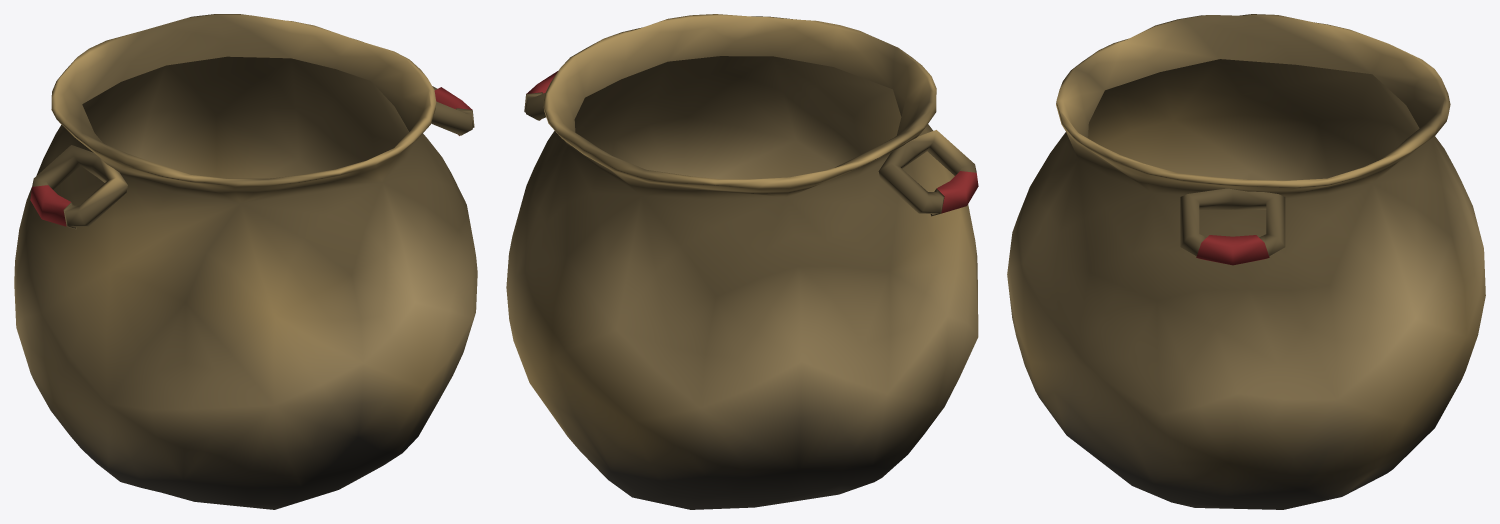
File: Cotel.fbx
3 renders of one model, left to right at view 1: azimuth 30°, elevation 25°; view 2: azimuth 150°, elevation 25°; view 3: azimuth 270°, elevation 25°, orthographic. The views are drawn at different scales.
Visible parts, largest first — view 1: Cotel; view 2: Cotel; view 3: Cotel.
Part boxes in pixels (x1,y1,x2,y2): Cotel: [14, 14, 477, 509]; Cotel: [506, 14, 978, 509]; Cotel: [1007, 14, 1485, 509].
Bounding box in the file's own units: 80 × 68.51 × 78.15.
